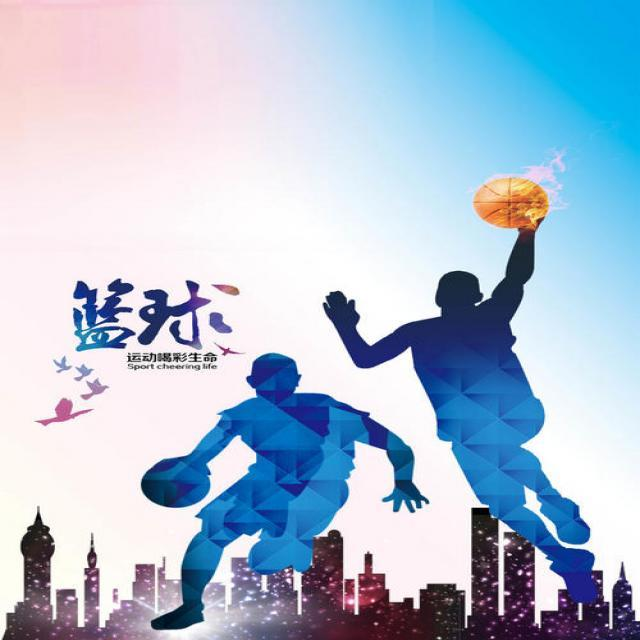rim: (474, 177, 550, 228)
